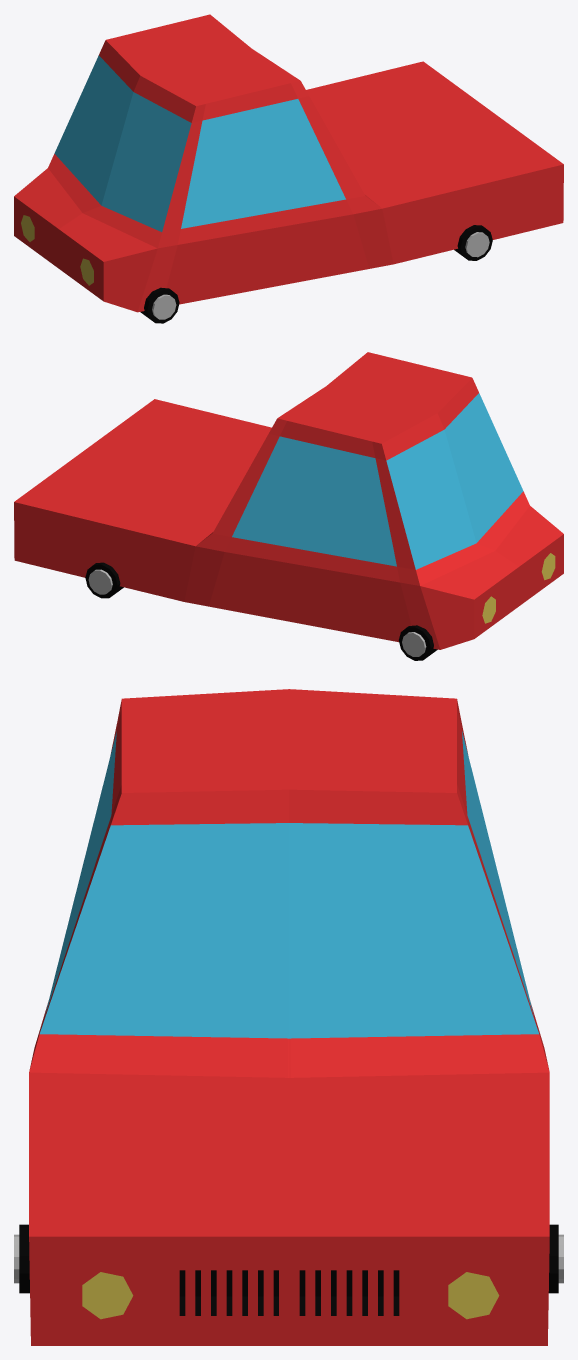
Rendered from carmodel1.fbx.
3 views of the same model, one above another, from view 1: azimuth 30°, elevation 25°; view 2: azimuth 150°, elevation 25°; view 3: azimuth 270°, elevation 25° (orthographic). The views are drawn at different scales.
Parts seen in each view (by area): view 1: Cube; view 2: Cube; view 3: Cube.
Part boxes in pixels (x1,y1,x2,y2): Cube: (14, 14, 563, 323); Cube: (14, 352, 563, 660); Cube: (14, 689, 563, 1345).
Size of the model in its own units: 556 by 239 by 328.
